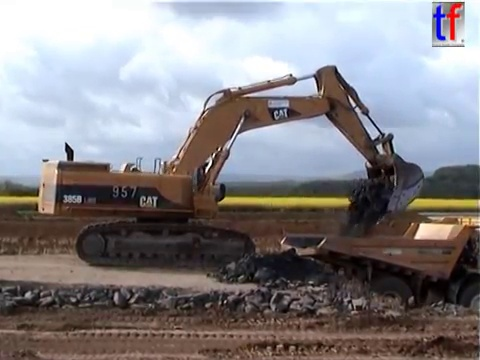excavator: (35, 62, 428, 270)
truck: (276, 214, 480, 326)
